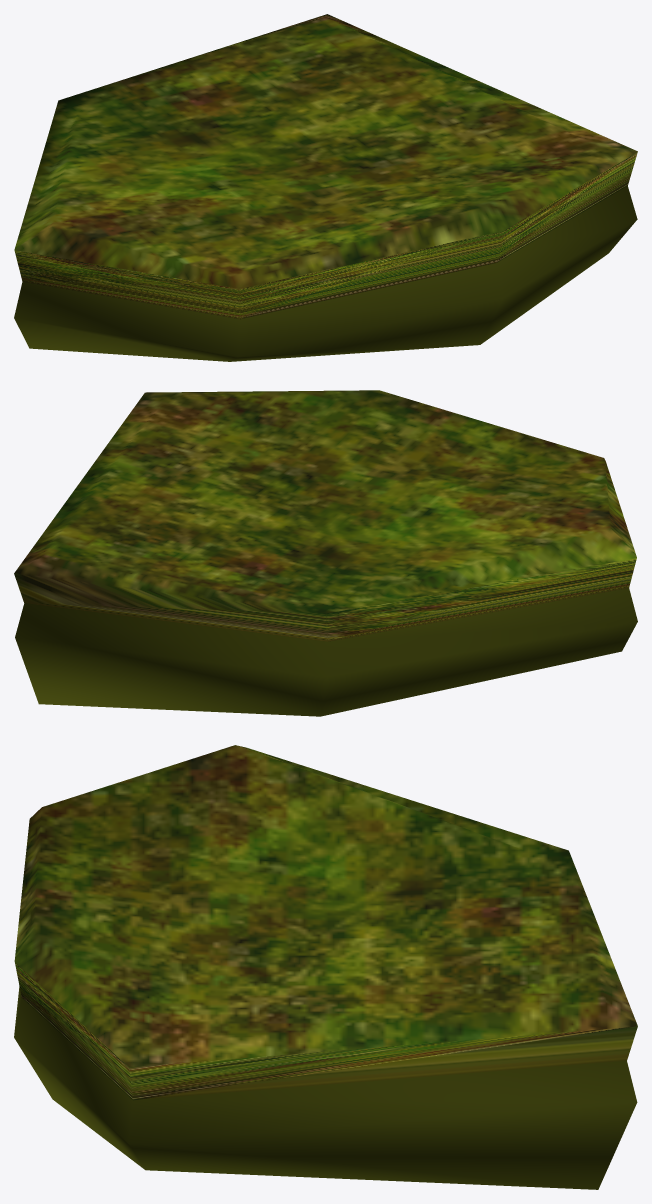
The model's file is TROLLHOLE02_RM_FALL_ROCK03.fbx.
3 views of the same model, one above another, from view 1: azimuth 30°, elevation 25°; view 2: azimuth 150°, elevation 25°; view 3: azimuth 270°, elevation 25° (orthographic). The views are drawn at different scales.
Parts seen in each view (by area): view 1: TROLLHOLE02_RM_FALL_ROCK03; view 2: TROLLHOLE02_RM_FALL_ROCK03; view 3: TROLLHOLE02_RM_FALL_ROCK03.
Part boxes in pixels (x1=…): TROLLHOLE02_RM_FALL_ROCK03: x1=14, y1=14, x2=637, y2=361; TROLLHOLE02_RM_FALL_ROCK03: x1=14, y1=390, x2=637, y2=716; TROLLHOLE02_RM_FALL_ROCK03: x1=14, y1=745, x2=637, y2=1189.
Bounding box in the file's own units: 26586 × 7871 × 22156.
Materials: 1 (1 with a texture image).
